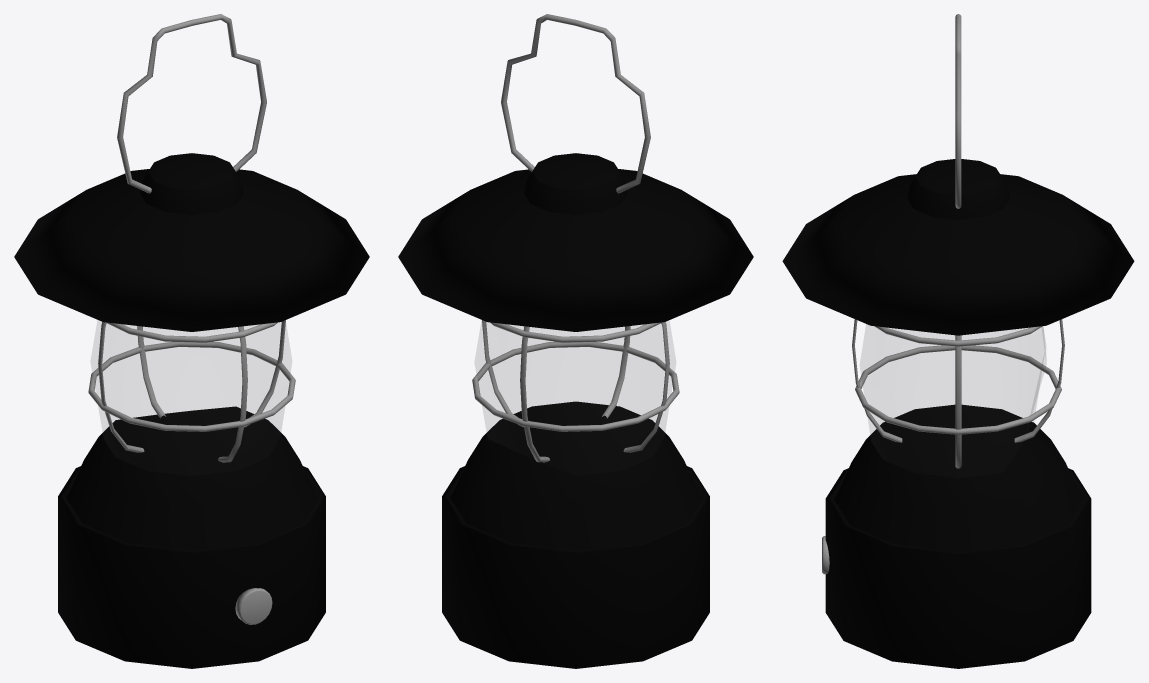
Rendered from lamp_black.fbx.
3 renders of one model, left to right at view 1: azimuth 30°, elevation 25°; view 2: azimuth 150°, elevation 25°; view 3: azimuth 270°, elevation 25°, orthographic.
Parts seen in each view (by area): view 1: lamp; view 2: lamp; view 3: lamp.
Boxes of the visible parts, x1,y1,x2,y2 form: lamp: [14, 14, 369, 668]; lamp: [398, 14, 753, 668]; lamp: [782, 14, 1134, 668].
Size of the model in its own units: 0.00424 by 0.00778 by 0.00424.
Materials: 2 (1 with a texture image).
